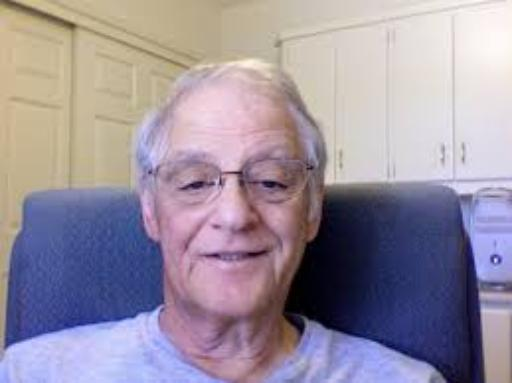left_eye: (254, 180, 295, 193)
left_lip_corner: (255, 249, 275, 261)
right_eye: (176, 181, 219, 193)
right_lip_corner: (193, 251, 215, 265)
